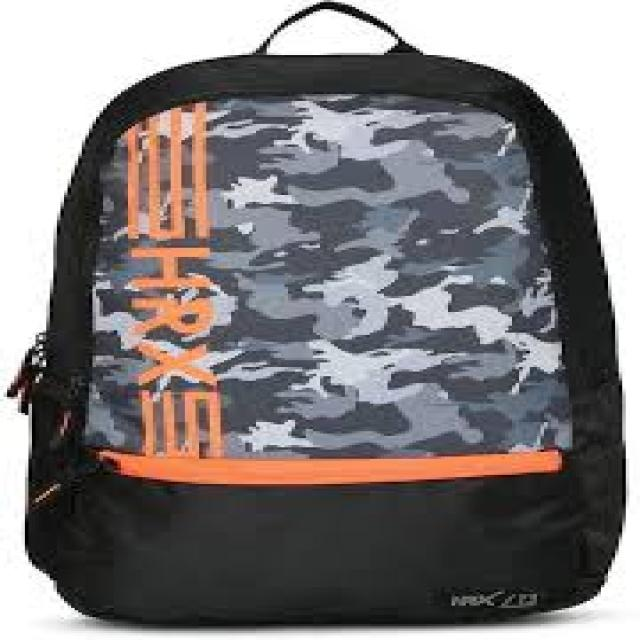backpack: (7, 0, 626, 624)
